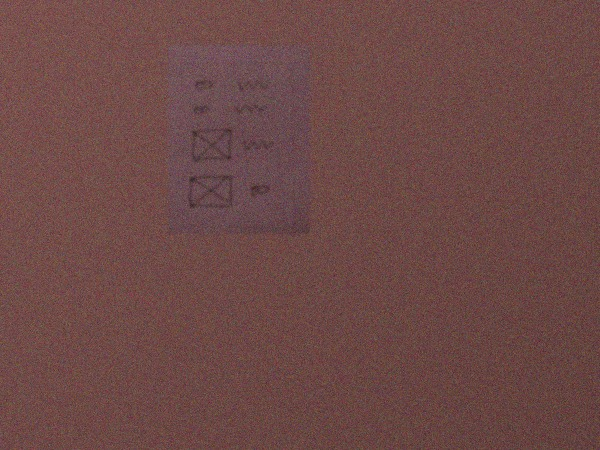image: (186, 174, 235, 211), (190, 126, 237, 164)
switch: (246, 179, 272, 200), (192, 76, 216, 92), (191, 101, 212, 116)
text: (233, 78, 275, 93), (240, 136, 275, 154), (233, 101, 272, 116)
